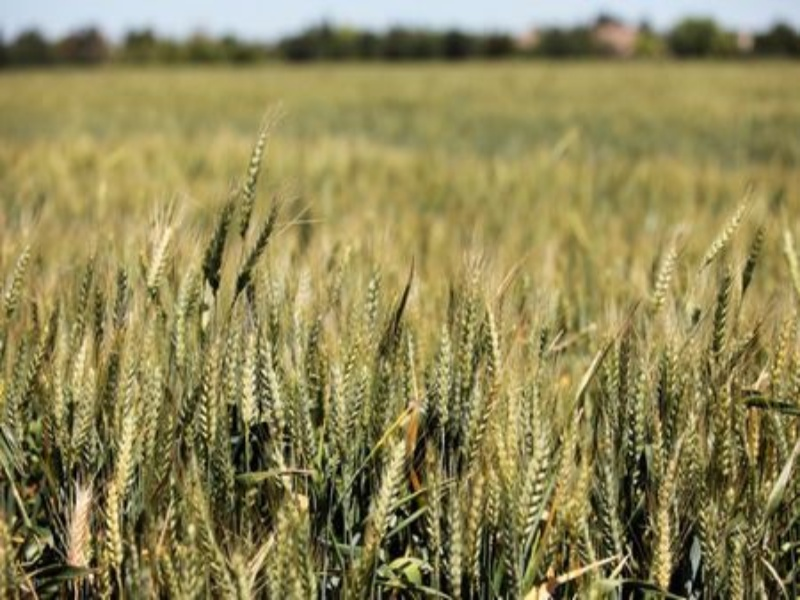wheat: (643, 183, 788, 585), (1, 227, 171, 480), (178, 269, 338, 478), (491, 393, 633, 587), (359, 422, 495, 596), (17, 474, 206, 594), (190, 89, 294, 301)
